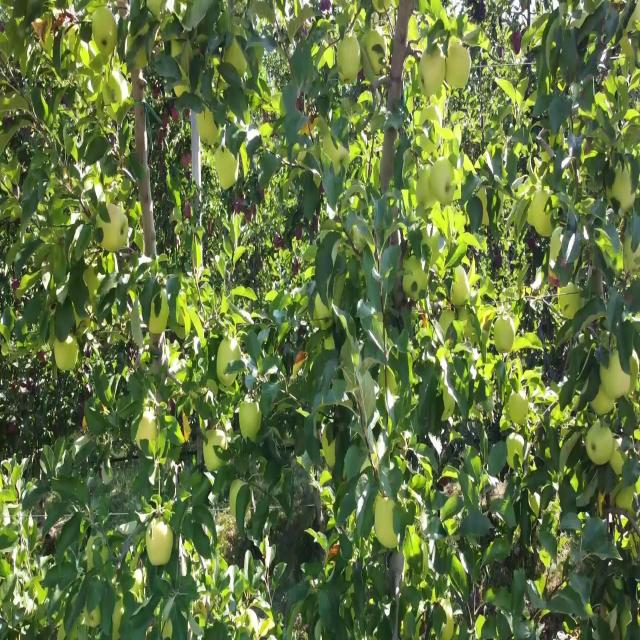apple: (600, 351, 640, 398), (100, 202, 129, 251), (146, 518, 174, 567), (445, 36, 471, 87), (419, 47, 446, 96), (216, 338, 241, 387), (375, 496, 398, 549), (338, 33, 361, 82), (365, 27, 388, 76), (365, 27, 388, 76), (586, 422, 612, 464), (215, 147, 239, 189), (239, 398, 261, 440), (224, 38, 248, 76), (558, 282, 582, 319), (149, 289, 169, 333), (54, 336, 79, 371), (196, 109, 220, 144), (549, 253, 572, 287), (591, 384, 615, 416), (451, 267, 470, 307), (425, 89, 446, 124), (202, 442, 222, 471), (430, 202, 448, 233), (229, 480, 244, 516), (615, 484, 635, 511), (350, 0, 366, 30), (112, 600, 124, 639), (314, 293, 331, 319), (433, 80, 449, 106), (292, 351, 308, 376), (461, 18, 479, 40), (415, 27, 429, 53), (319, 47, 335, 69), (102, 251, 118, 273), (176, 289, 186, 324), (440, 7, 454, 31), (435, 124, 452, 142), (86, 607, 101, 627), (510, 29, 521, 53), (478, 29, 490, 51), (429, 0, 442, 20), (182, 411, 190, 442), (319, 469, 331, 487), (129, 200, 141, 218), (462, 153, 474, 171), (174, 84, 189, 98), (358, 89, 372, 104), (328, 542, 340, 559), (358, 91, 372, 104), (324, 336, 335, 351), (181, 151, 191, 167), (8, 422, 19, 436), (401, 616, 408, 638), (409, 191, 418, 208), (11, 278, 20, 294), (304, 265, 314, 279)
